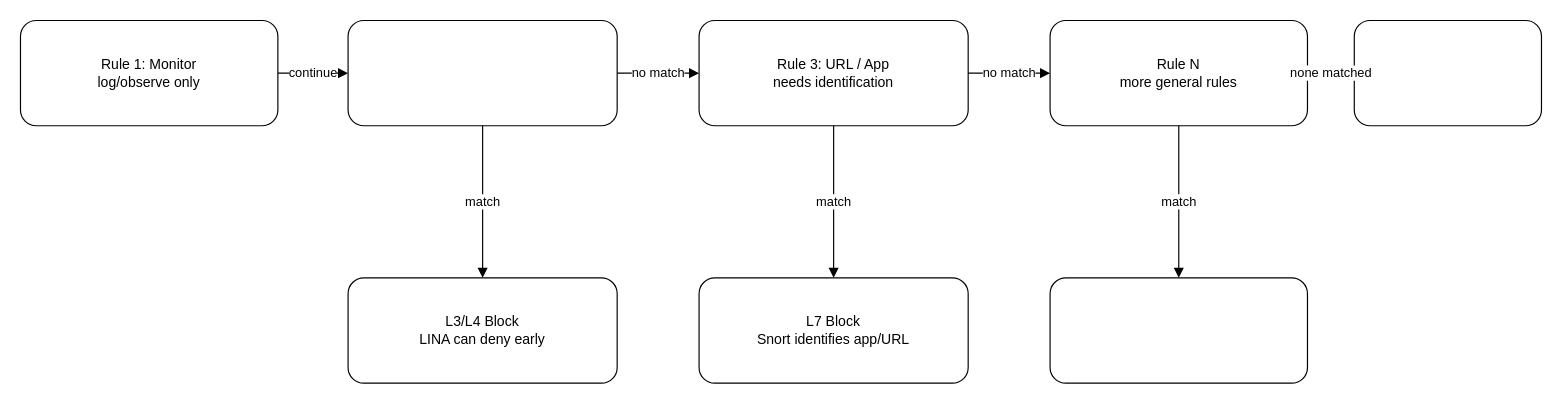
This 1562x404 diagram has some shape labels left out. The centre of each missing label's shape, as x and y in pixels:
"Allow optional File + IPS" belongs at point (1178, 330).
"Default Action" belongs at point (1447, 72).
"Rule 2: Specific L3/L4 first decisive match" belongs at point (482, 72).
